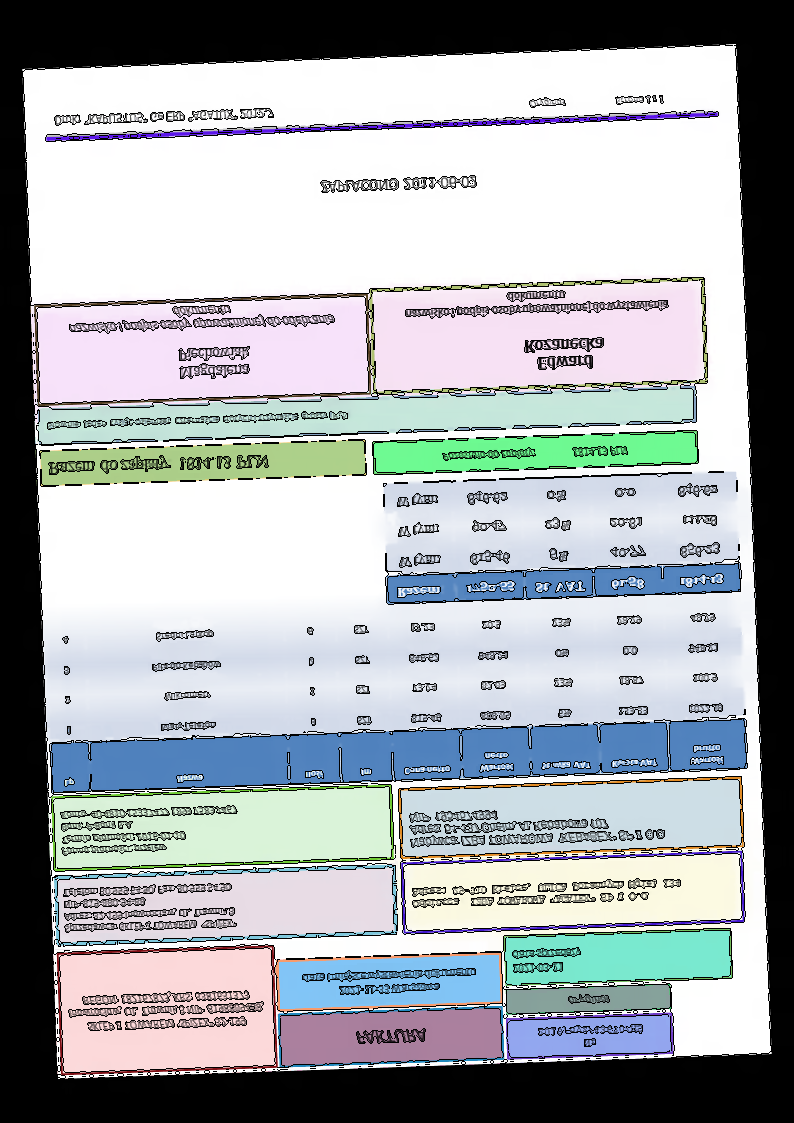Table: (42, 595, 749, 796), (381, 468, 744, 604)
TextBox: (404, 800, 673, 854), (401, 282, 673, 325), (408, 873, 685, 914), (57, 799, 242, 860), (64, 299, 338, 339), (64, 985, 268, 1036), (42, 406, 356, 439), (60, 879, 238, 937), (43, 449, 269, 482), (48, 101, 277, 131), (299, 965, 480, 1002), (316, 167, 484, 201), (439, 440, 633, 468), (521, 331, 608, 378), (535, 1018, 647, 1052), (174, 341, 253, 383), (525, 91, 667, 114), (508, 941, 584, 980), (352, 1025, 427, 1050), (565, 990, 612, 1007)
